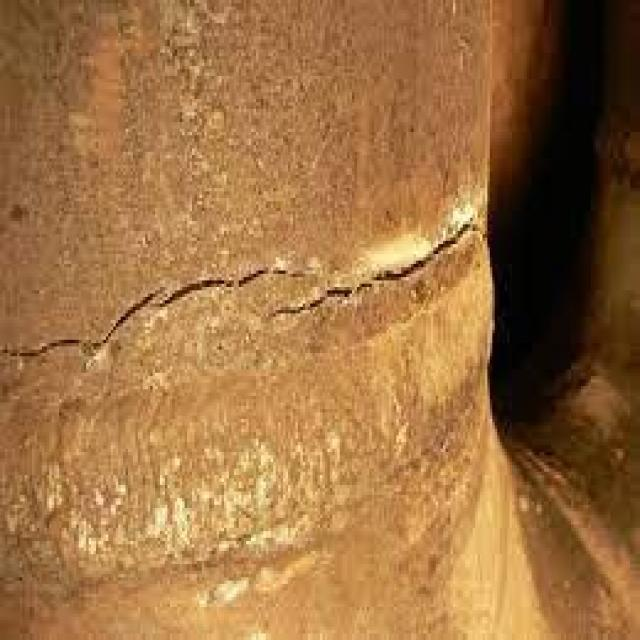defect: (0, 259, 319, 368), (249, 215, 487, 327)
